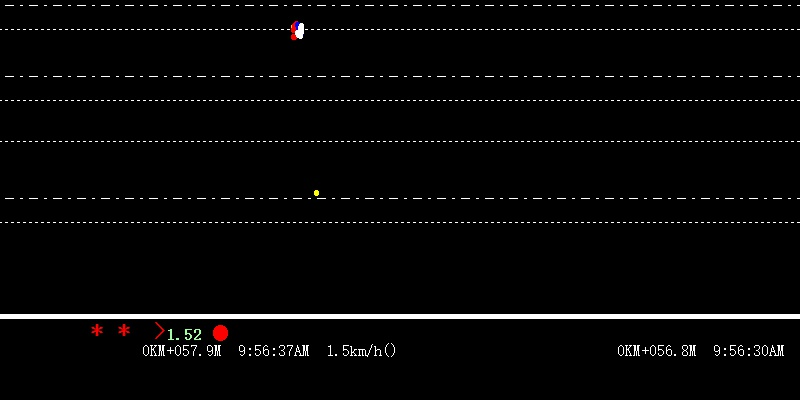circle: (212, 324, 228, 342)
star: (89, 321, 104, 339), (119, 321, 130, 339)
